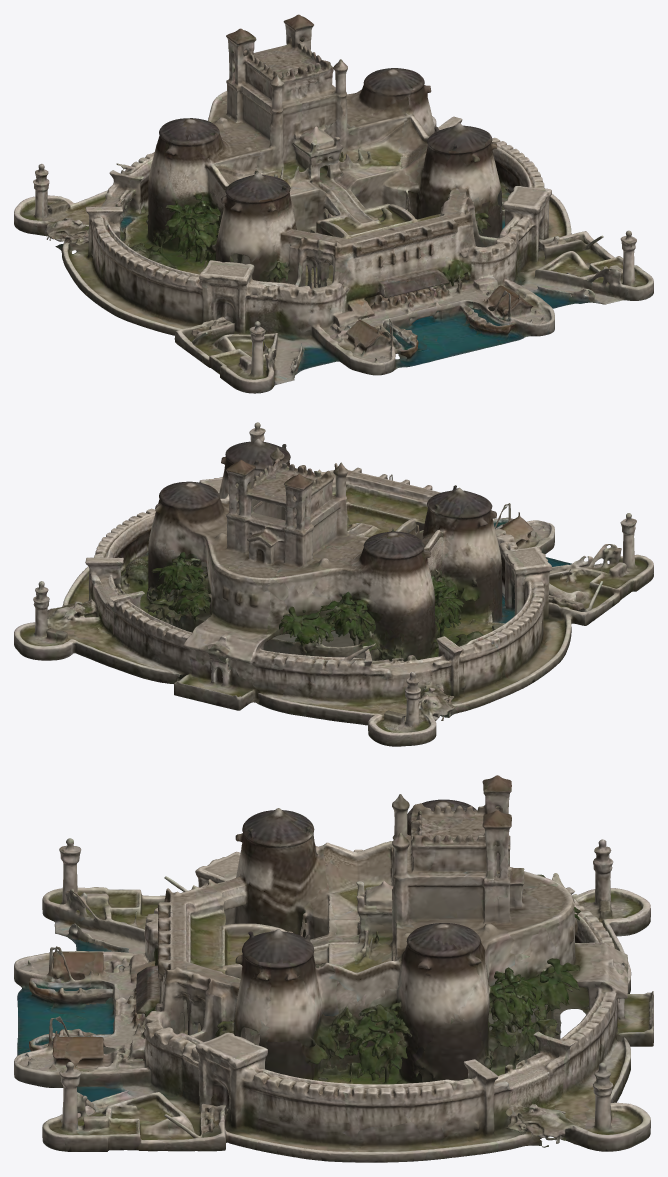
File: fort5.glb
3 views of the same model, one above another, from view 1: azimuth 30°, elevation 25°; view 2: azimuth 150°, elevation 25°; view 3: azimuth 270°, elevation 25° (orthographic). The views are drawn at different scales.
Bounding box in the file's own units: 1.9 × 0.7827 × 1.9.
Materials: 1 (1 with a texture image).
